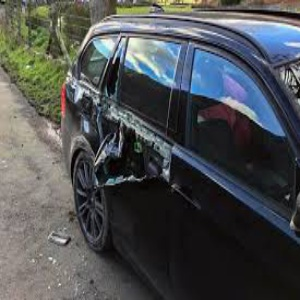door: (94, 119, 181, 205)
